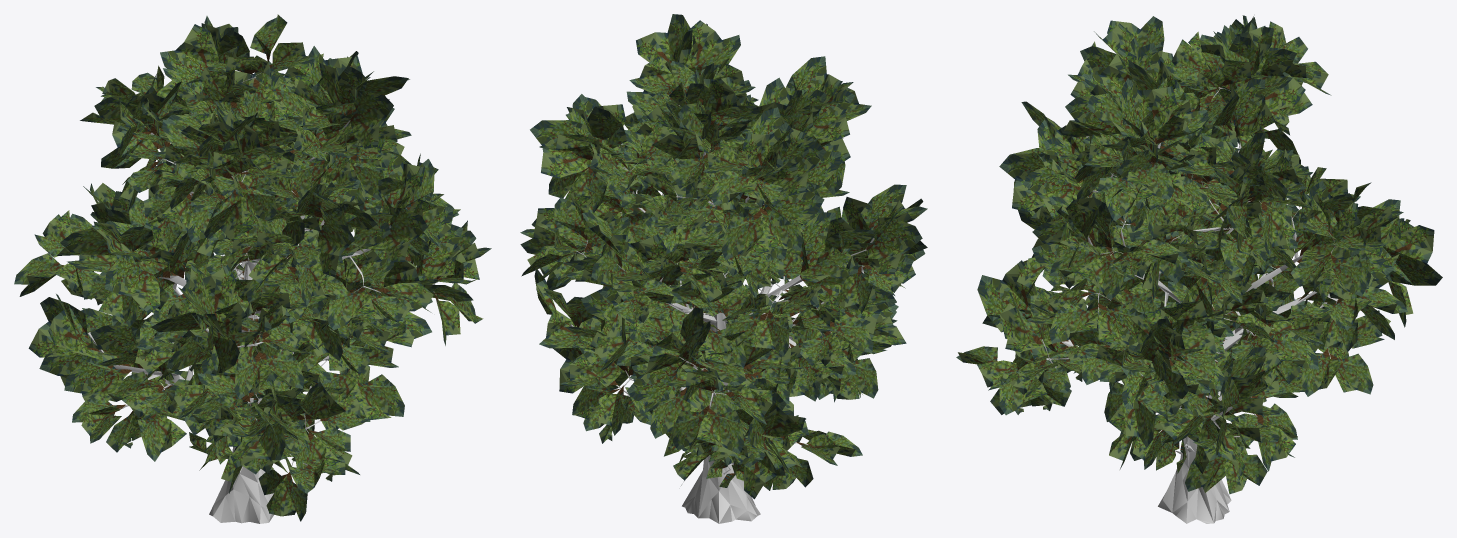
The model's file is tree_LOD1_fix.fbx.
3 views of the same model, side by side, from view 1: azimuth 30°, elevation 25°; view 2: azimuth 150°, elevation 25°; view 3: azimuth 270°, elevation 25° (orthographic). The views are drawn at different scales.
Parts seen in each view (by area): view 1: cluster, trunk; view 2: cluster, trunk; view 3: cluster, trunk.
Part boxes in pixels (x1,y1,x2,y2): cluster: [14, 14, 491, 521]; trunk: [78, 73, 436, 523]; cluster: [520, 14, 927, 499]; trunk: [569, 105, 874, 523]; cluster: [956, 15, 1442, 494]; trunk: [1041, 87, 1338, 523].
Bounding box in the file's own units: 1294 × 1424 × 1305.
